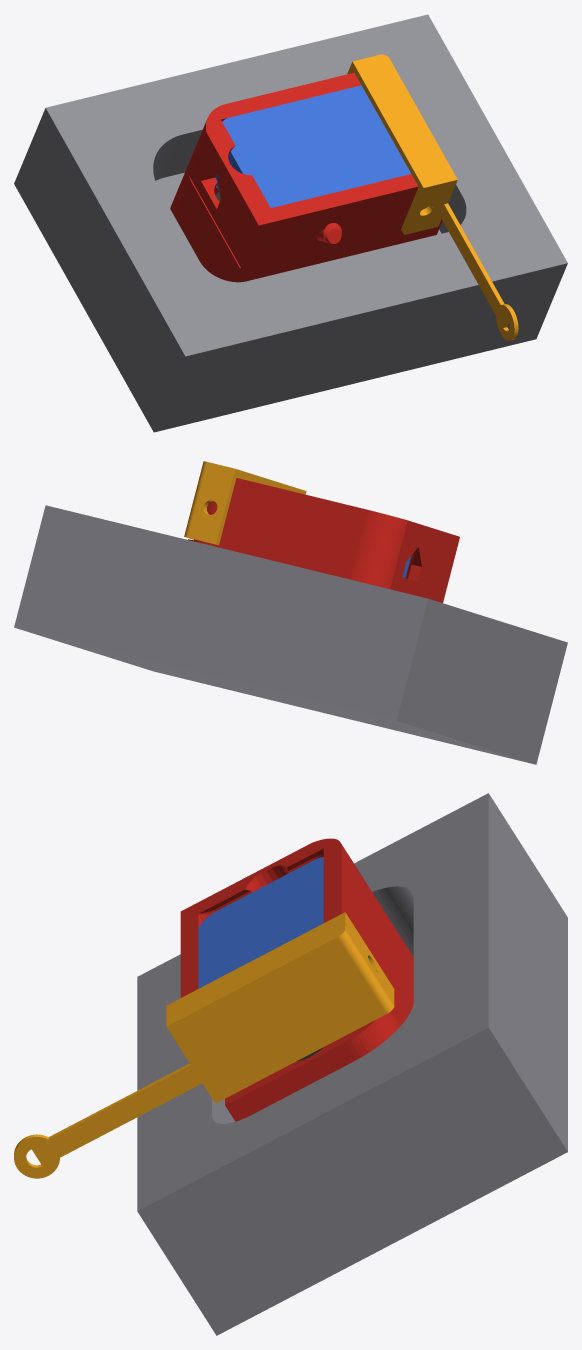
File: dragy_assembly_v3.obj
3 views of the same model, one above another, from view 1: azimuth 30°, elevation 25°; view 2: azimuth 150°, elevation 25°; view 3: azimuth 270°, elevation 25° (orthographic). The views are drawn at different scales.
Visible parts, largest first — view 1: front_swingarm_pad_schematic, dragy_holder, dragy, usbc_cap; view 2: front_swingarm_pad_schematic, dragy_holder, usbc_cap; view 3: front_swingarm_pad_schematic, usbc_cap, dragy_holder, dragy.
Part boxes in pixels (left/top/right/bottom): front_swingarm_pad_schematic: left=14, top=14, right=567, bottom=432; dragy_holder: left=170, top=72, right=442, bottom=282; dragy: left=215, top=85, right=410, bottom=207; usbc_cap: left=347, top=54, right=518, bottom=340; front_swingarm_pad_schematic: left=14, top=505, right=567, bottom=764; dragy_holder: left=188, top=478, right=459, bottom=602; usbc_cap: left=184, top=461, right=306, bottom=545; front_swingarm_pad_schematic: left=137, top=793, right=567, bottom=1335; usbc_cap: left=14, top=912, right=394, bottom=1178; dragy_holder: left=180, top=838, right=413, bottom=1121; dragy: left=198, top=857, right=323, bottom=988.
Bounding box in the file's own units: 96.3 × 65.59 × 96.16.
